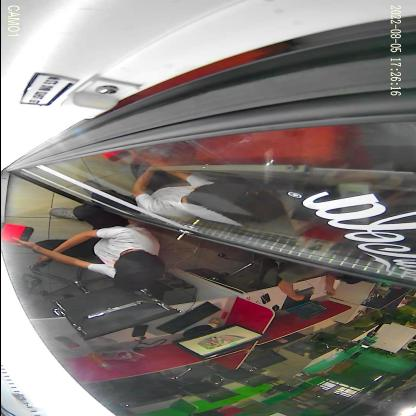red: (0, 222, 34, 243)
